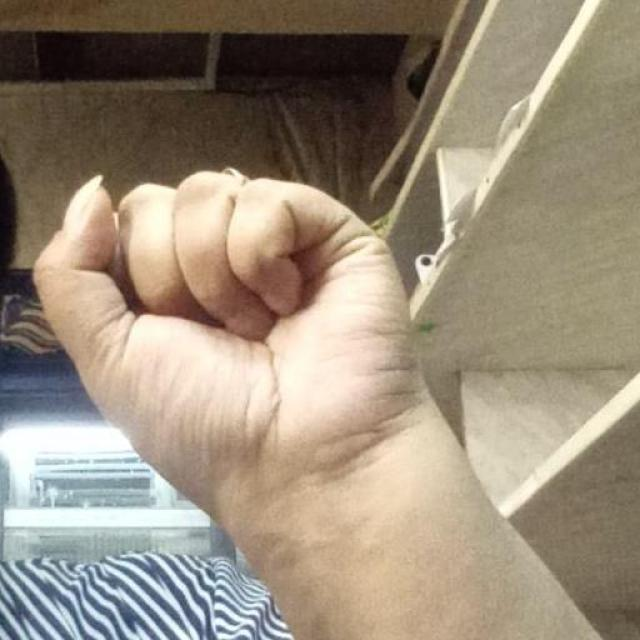hand: (31, 164, 442, 541)
